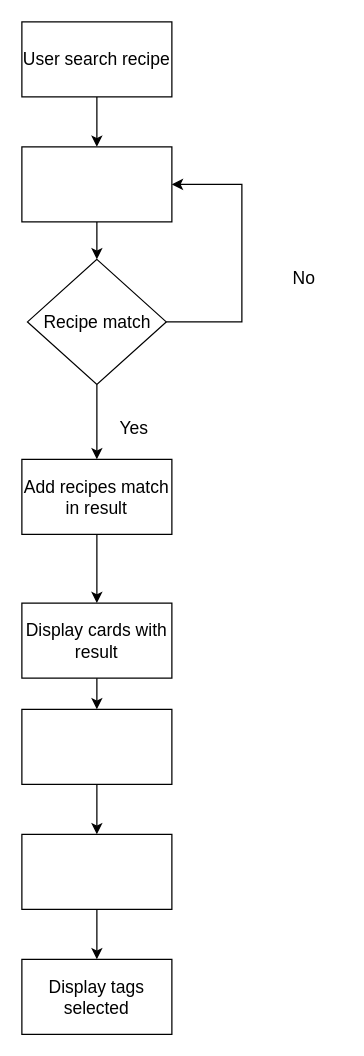
This 364x1056 diagram has some shape labels left out. Each missing label, with the centre of its shape:
"Display tags with result" goes at pixel 96 746.
"Display total recipes with result" goes at pixel 96 871.
"User fill search with 3 inputs" goes at pixel 96 184.
